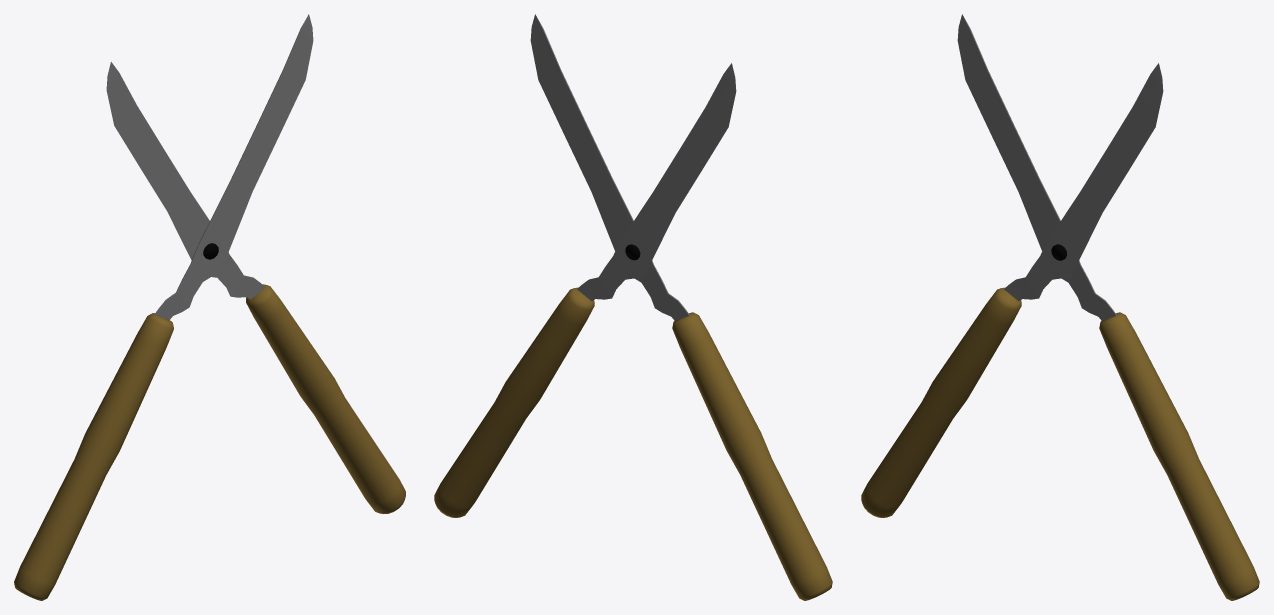
The model's file is tool1.fbx.
3 renders of one model, left to right at view 1: azimuth 30°, elevation 25°; view 2: azimuth 150°, elevation 25°; view 3: azimuth 330°, elevation 25°, orthographic.
Visible parts, largest first — view 1: Scissor_Circle; view 2: Scissor_Circle; view 3: Scissor_Circle.
Boxes of the visible parts, box(x1,y1,x2,y2) form: Scissor_Circle: box(14, 14, 405, 600); Scissor_Circle: box(434, 14, 832, 600); Scissor_Circle: box(861, 14, 1259, 600).
Bounding box in the file's own units: 1251 × 1588 × 126.
